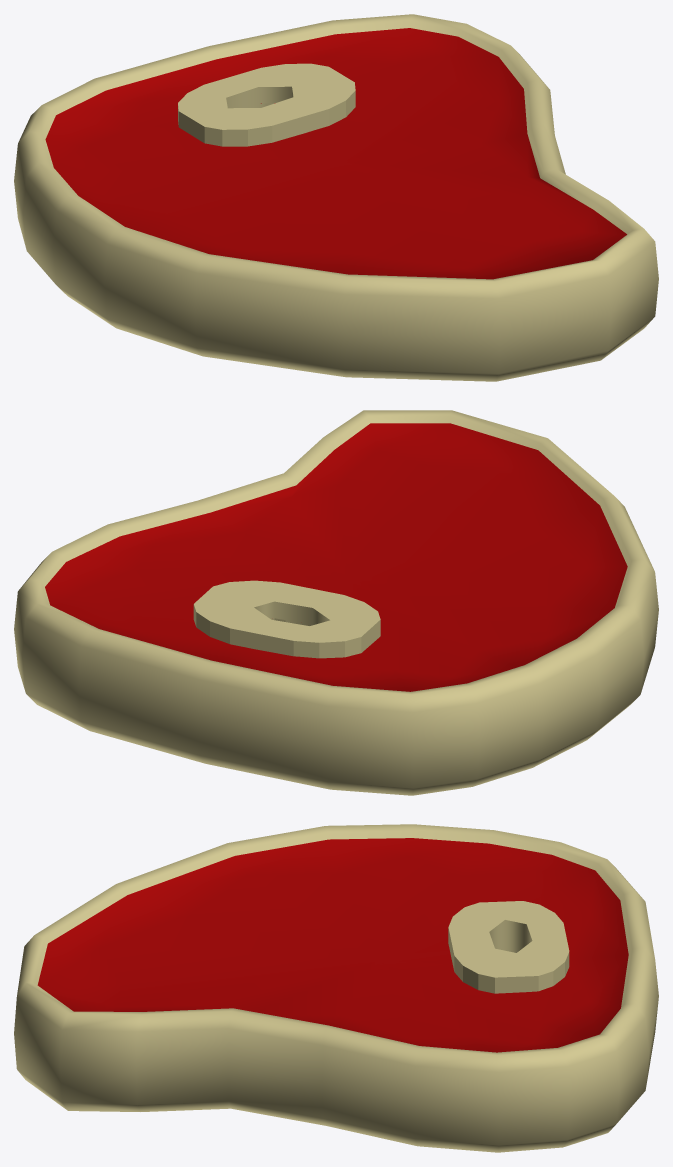
File: Steak3.FBX
The picture shows the model from 3 angles, top to bottom: view 1: azimuth 30°, elevation 25°; view 2: azimuth 150°, elevation 25°; view 3: azimuth 270°, elevation 25°; orthographic projection. The views are drawn at different scales.
Visible parts, largest first — view 1: Box008; view 2: Box008; view 3: Box008.
Part boxes in pixels (x1,y1,x2,y2): Box008: (14, 14, 658, 381); Box008: (14, 410, 658, 795); Box008: (14, 824, 658, 1152).
Bounding box in the file's own units: 36.02 × 6.89 × 40.24.
